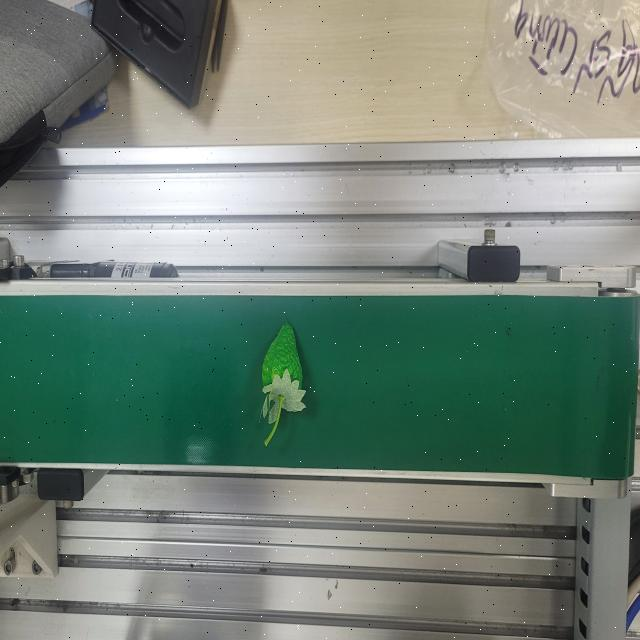Small Unripe Strawberry: (257, 319, 307, 447)
conveyor: (0, 288, 639, 483)
